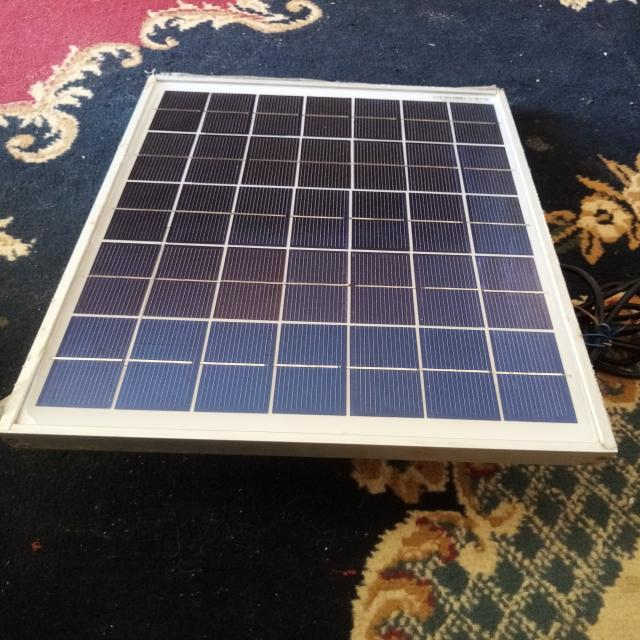no faulty: (0, 78, 613, 449)
